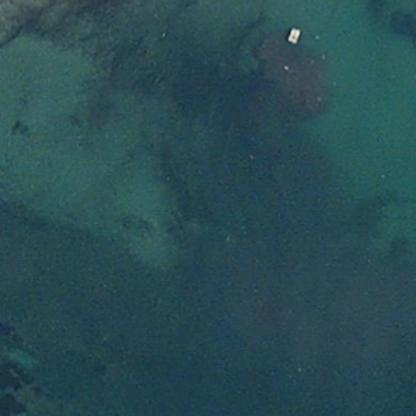ship: (282, 20, 306, 48)
